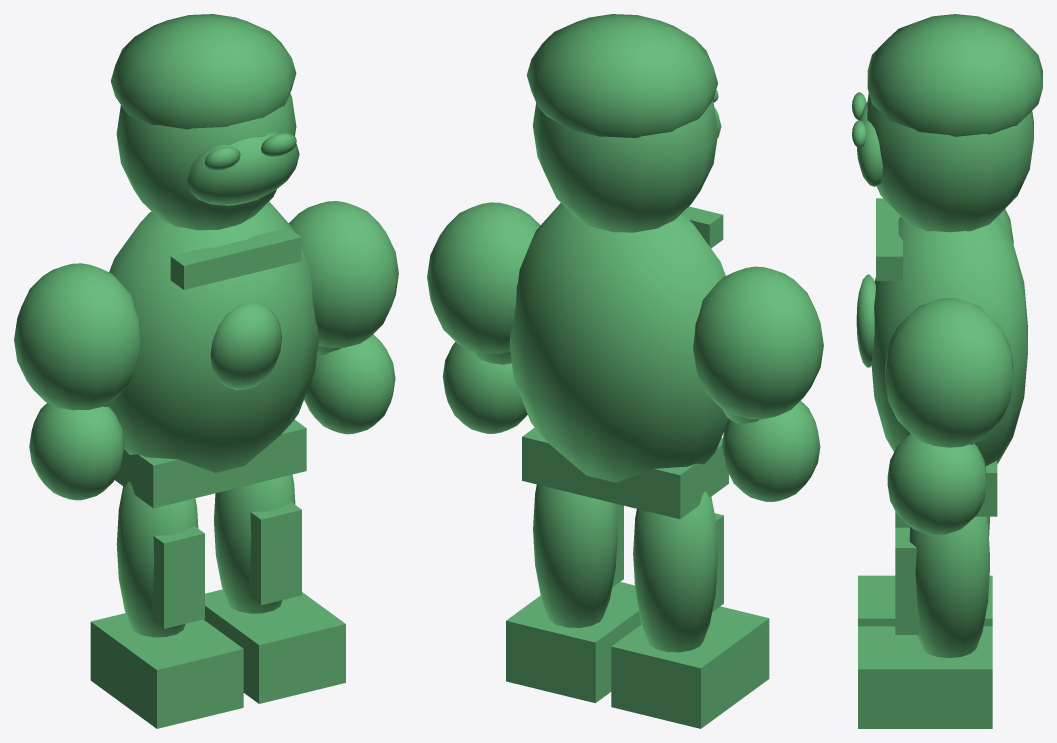
File: hulk.glb
3 views of the same model, side by side, from view 1: azimuth 30°, elevation 25°; view 2: azimuth 150°, elevation 25°; view 3: azimuth 270°, elevation 25° (orthographic). The views are drawn at different scales.
Parts seen in each view (by area): view 1: hulk-hero; view 2: hulk-hero; view 3: hulk-hero.
Boxes of the visible parts, <box> form: hulk-hero: <box>14,14,398,728</box>; hulk-hero: <box>427,14,823,728</box>; hulk-hero: <box>852,14,1042,728</box>.
Size of the model in its own units: 1.44 by 2.41 by 0.6369.
